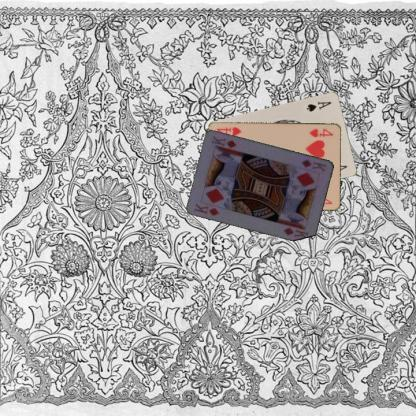4h: (307, 126, 334, 138)
As: (304, 98, 333, 112)
Kd: (192, 201, 220, 219), (298, 156, 328, 172)
